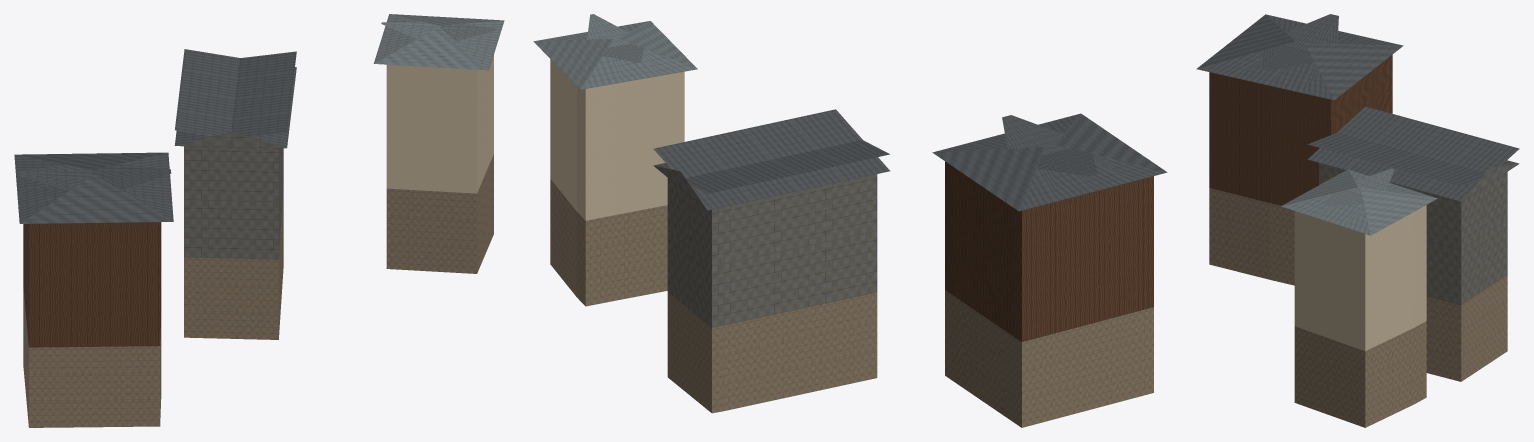
Rendered from bld_c41_-47_462.gltf.
3 views of the same model, side by side, from view 1: azimuth 30°, elevation 25°; view 2: azimuth 150°, elevation 25°; view 3: azimuth 270°, elevation 25° (orthographic). The views are drawn at different scales.
Parts seen in each view (by area): view 1: bld_c41_-47_462; view 2: bld_c41_-47_462; view 3: bld_c41_-47_462.
Boxes of the visible parts, left/top/right/bottom form: bld_c41_-47_462: left=14, top=14, right=504, bottom=427; bld_c41_-47_462: left=533, top=14, right=1167, bottom=427; bld_c41_-47_462: left=1196, top=14, right=1519, bottom=427.
Size of the model in its own units: 35.85 by 16.2 by 19.51.
7 materials, 7 textured.
